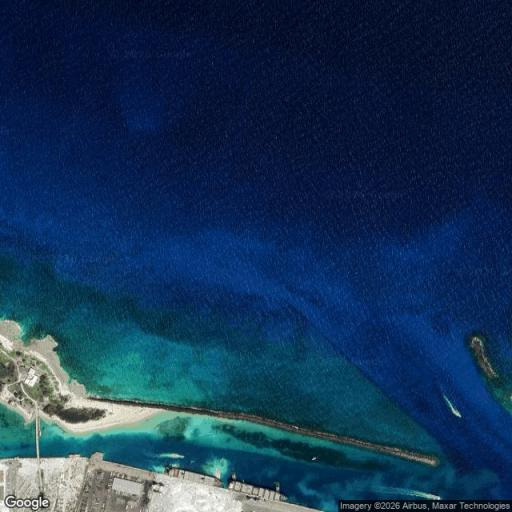ship: (366, 476, 446, 506), (163, 464, 225, 488), (226, 481, 288, 501), (439, 389, 467, 424), (311, 458, 318, 461)
